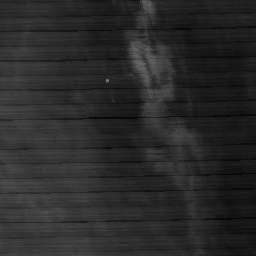Target: (104, 77, 110, 84)
